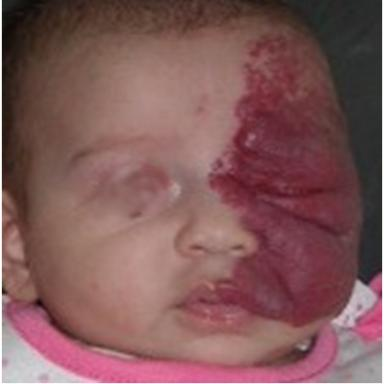Hemangiome: (210, 32, 360, 324)
